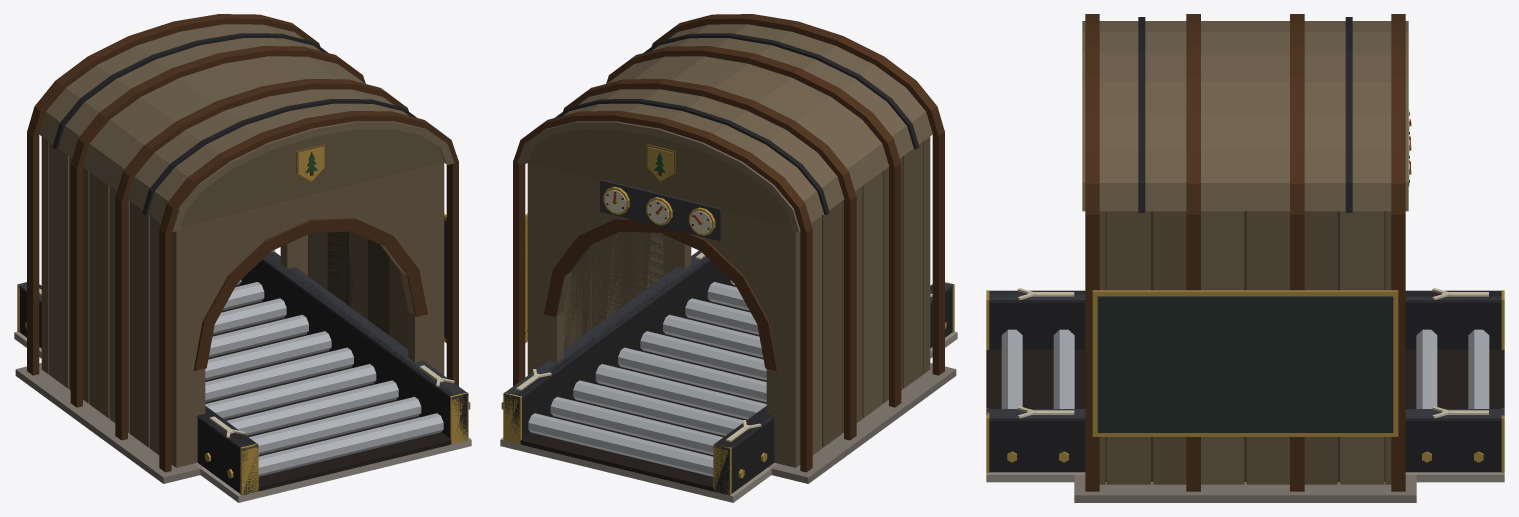
Rendered from PlanerBench.glb.
The picture shows the model from 3 angles, left to right: view 1: azimuth 30°, elevation 25°; view 2: azimuth 150°, elevation 25°; view 3: azimuth 270°, elevation 25°; orthographic projection. The views are drawn at different scales.
Parts seen in each view (by area): view 1: Body, Rollers, Belt; view 2: Body, Rollers, Belt; view 3: Body, Rollers, Belt, ArrowDecal.
Part boxes in pixels (x1,y1,x2,y2): Body: (14,14,471,502); Rollers: (25,279,443,478); Belt: (205,284,451,491); Body: (500,14,957,502); Rollers: (528,279,946,478); Belt: (520,284,766,491); Body: (986,14,1504,502); Rollers: (1001,329,1489,462); Belt: (986,349,1504,408); ArrowDecal: (1017,288,1488,418).
Size of the model in its own units: 7.9 by 7.88 by 10.
